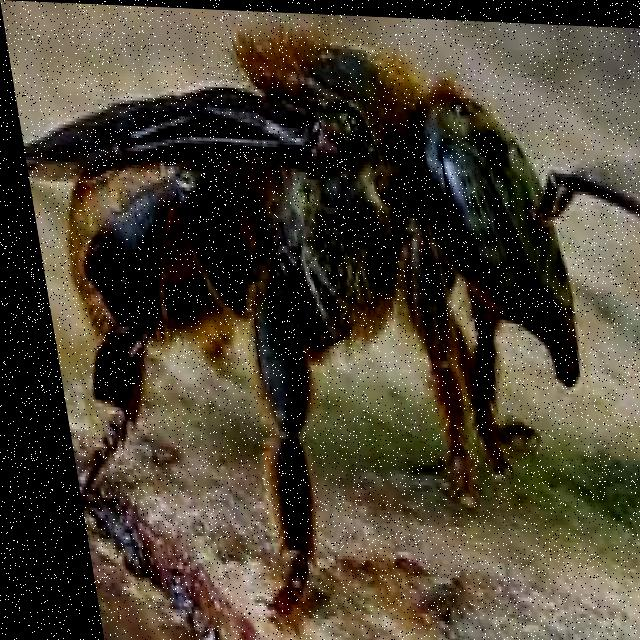Meliponula: (6, 0, 640, 529)
